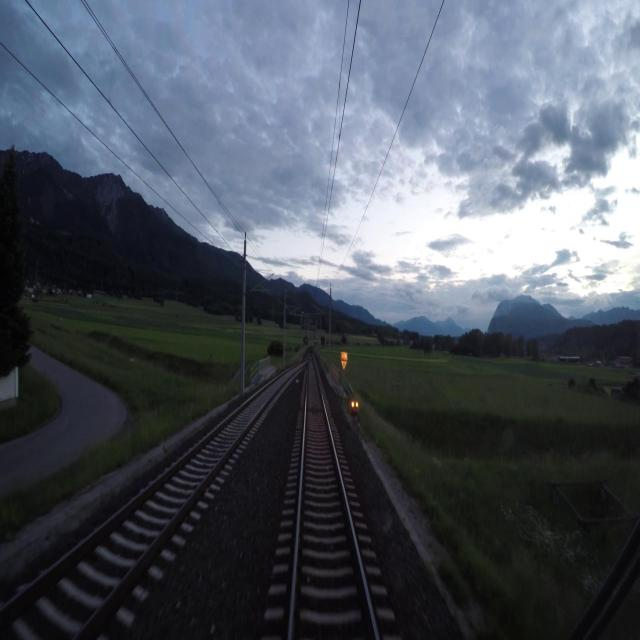rail-track: (292, 362, 375, 639)
